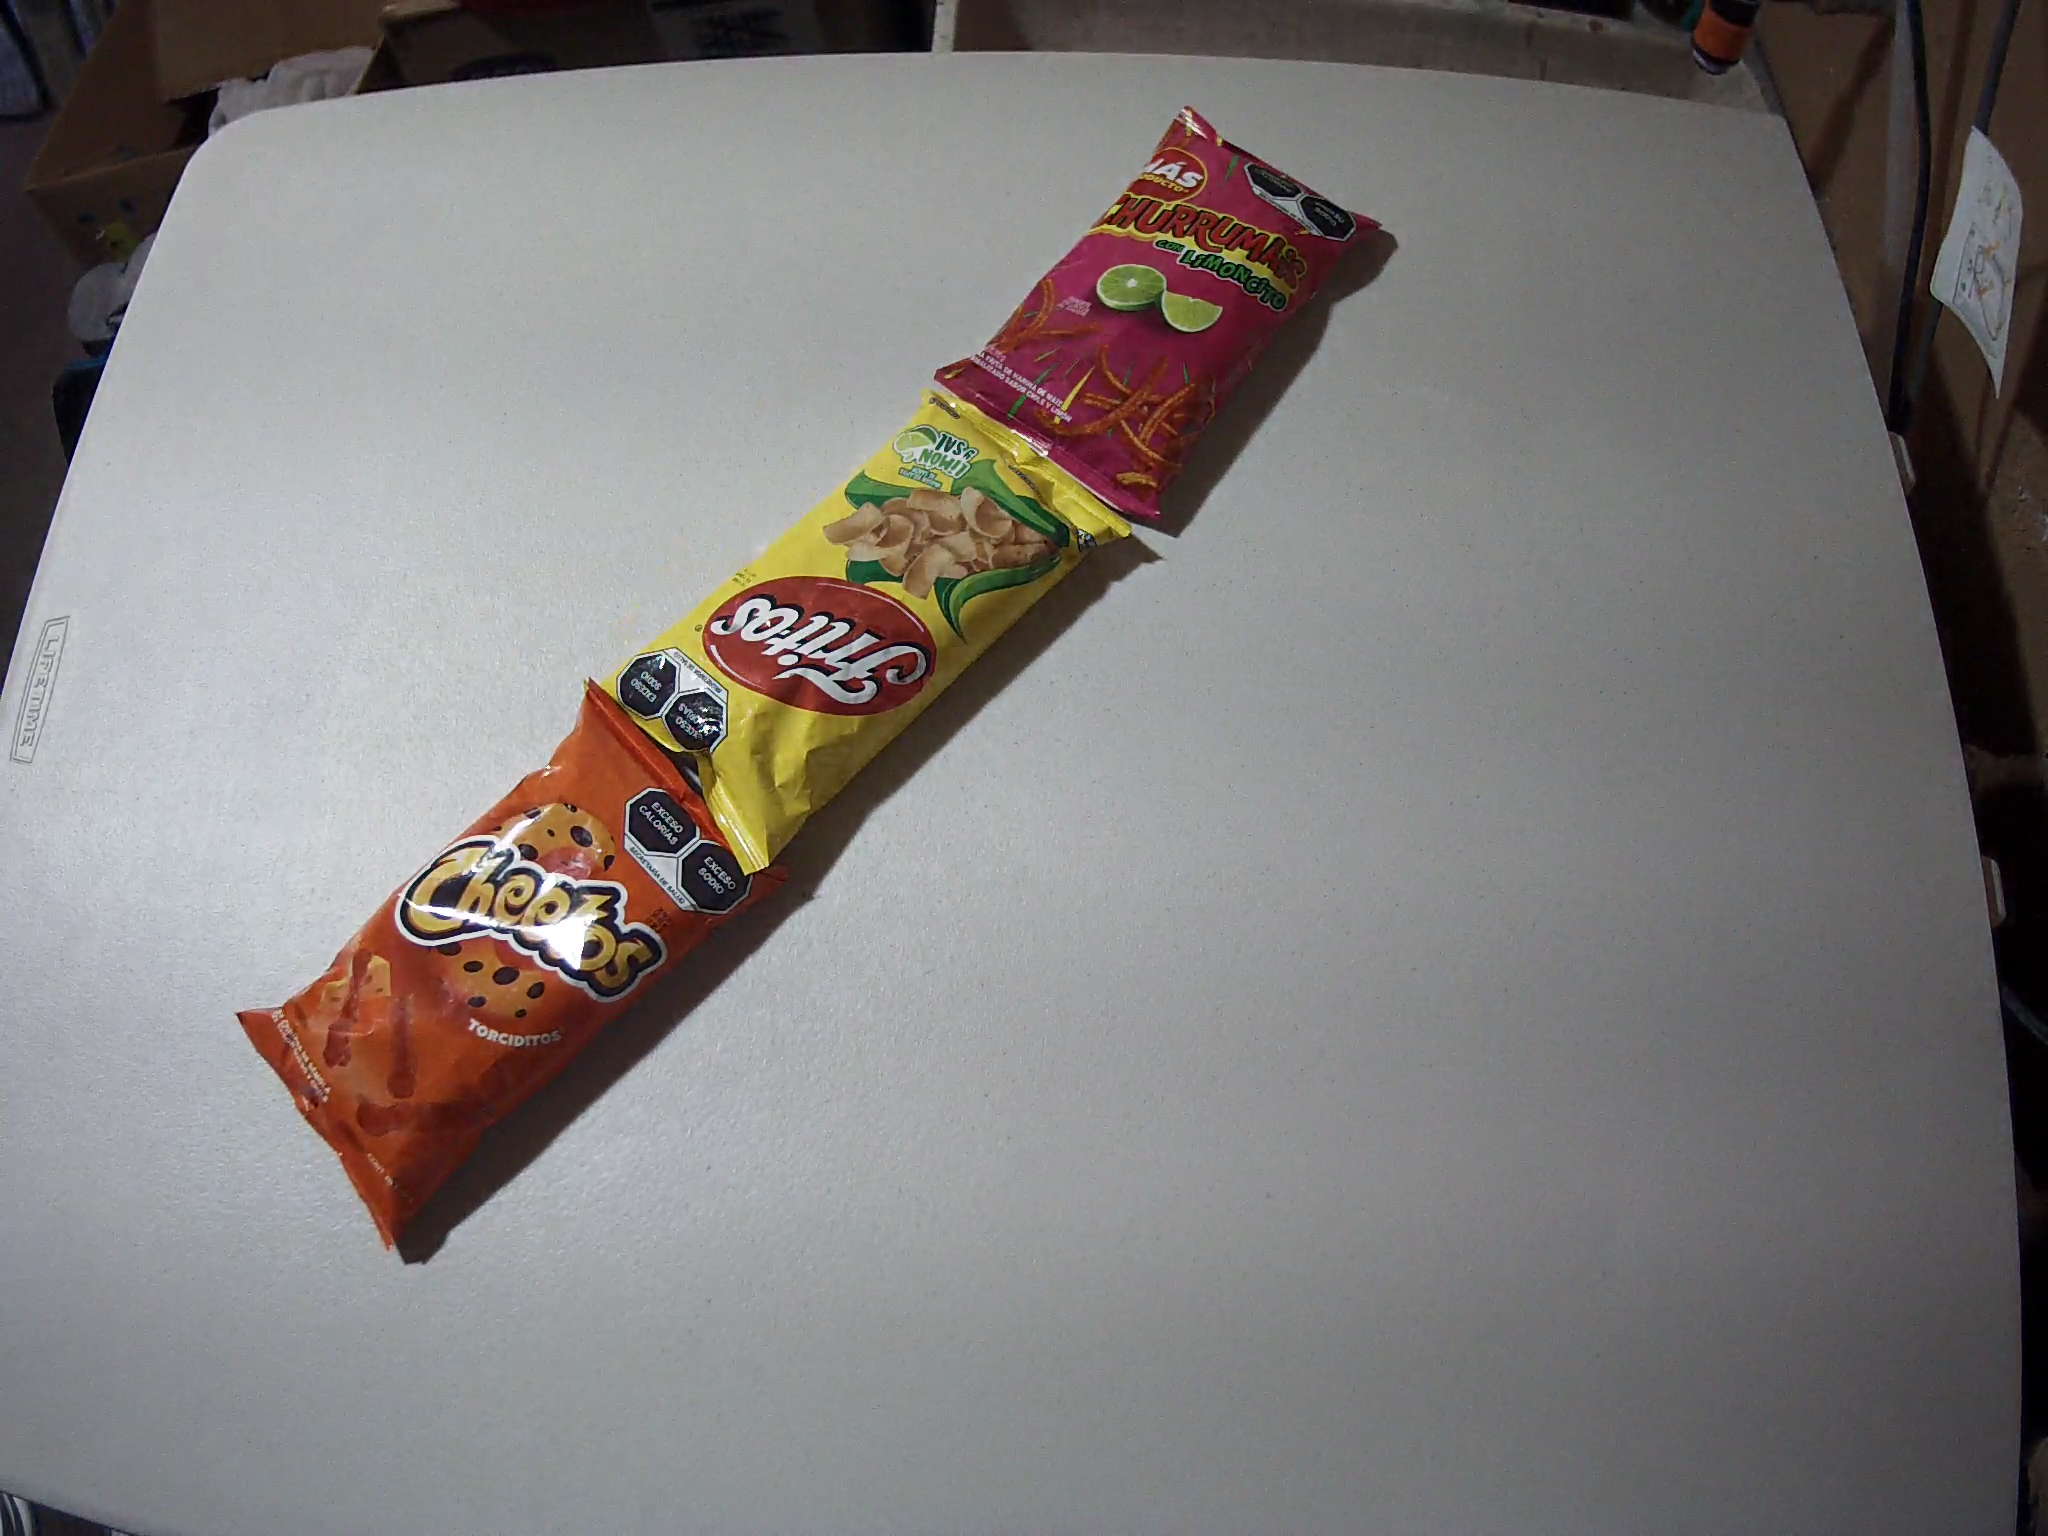CheetosTorciditos_55_F: (237, 676, 790, 1257)
Churrumais_70_F: (934, 103, 1384, 531)
FritosSalLimon_65_F: (585, 382, 1134, 876)
